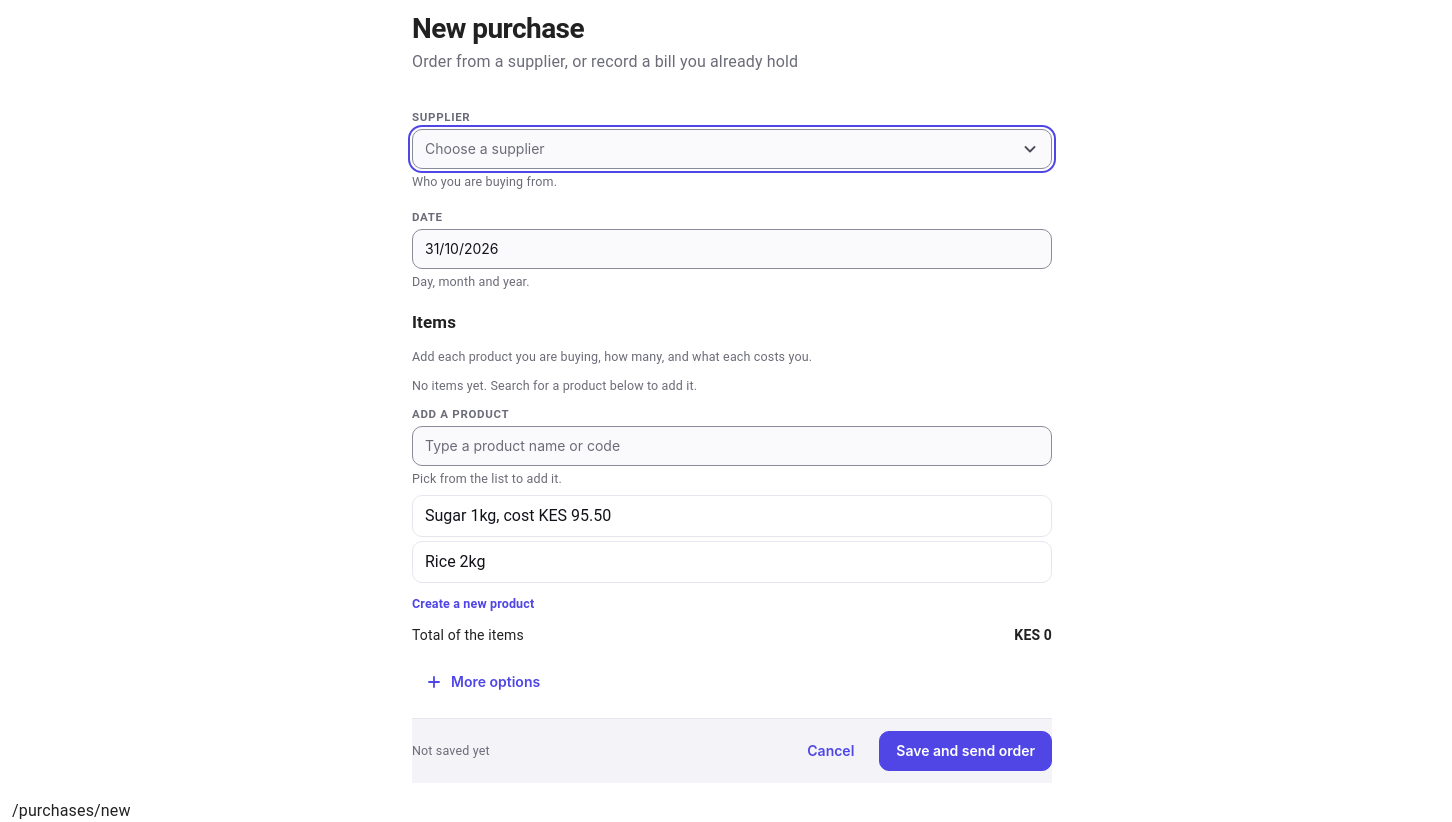
Test case: the items › picking the same product again raises its quantity instead of adding a second line
Expected: the dropdown labelled "Choose a supplier" is shown, [412, 128, 1052, 168]
Click the button "Sugar 1kg, cost KES 95.50" at (518, 516), box [412, 495, 1052, 537]
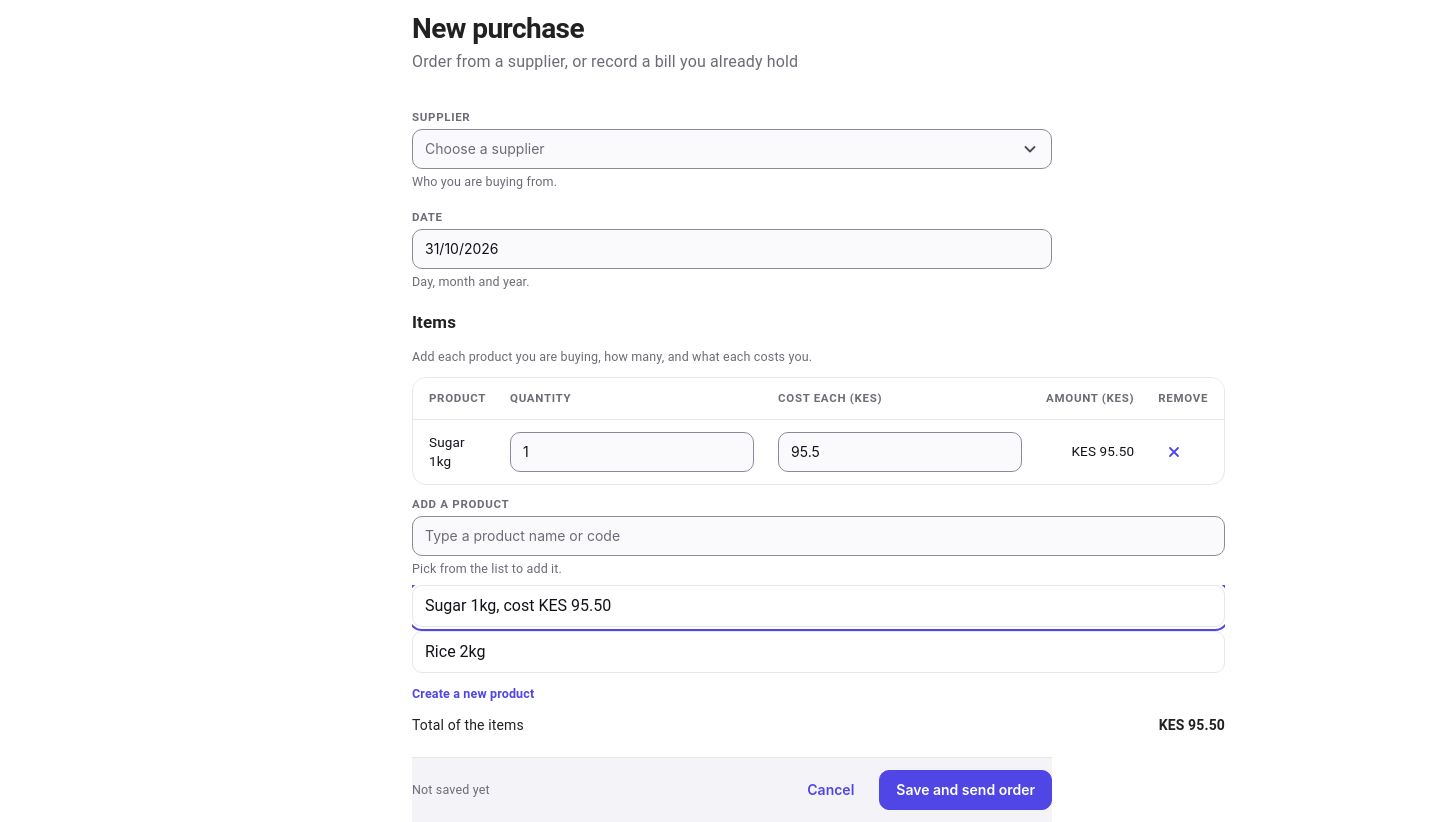
Click the button "Sugar 1kg, cost KES 95.50" at (518, 606), box [412, 585, 1225, 627]
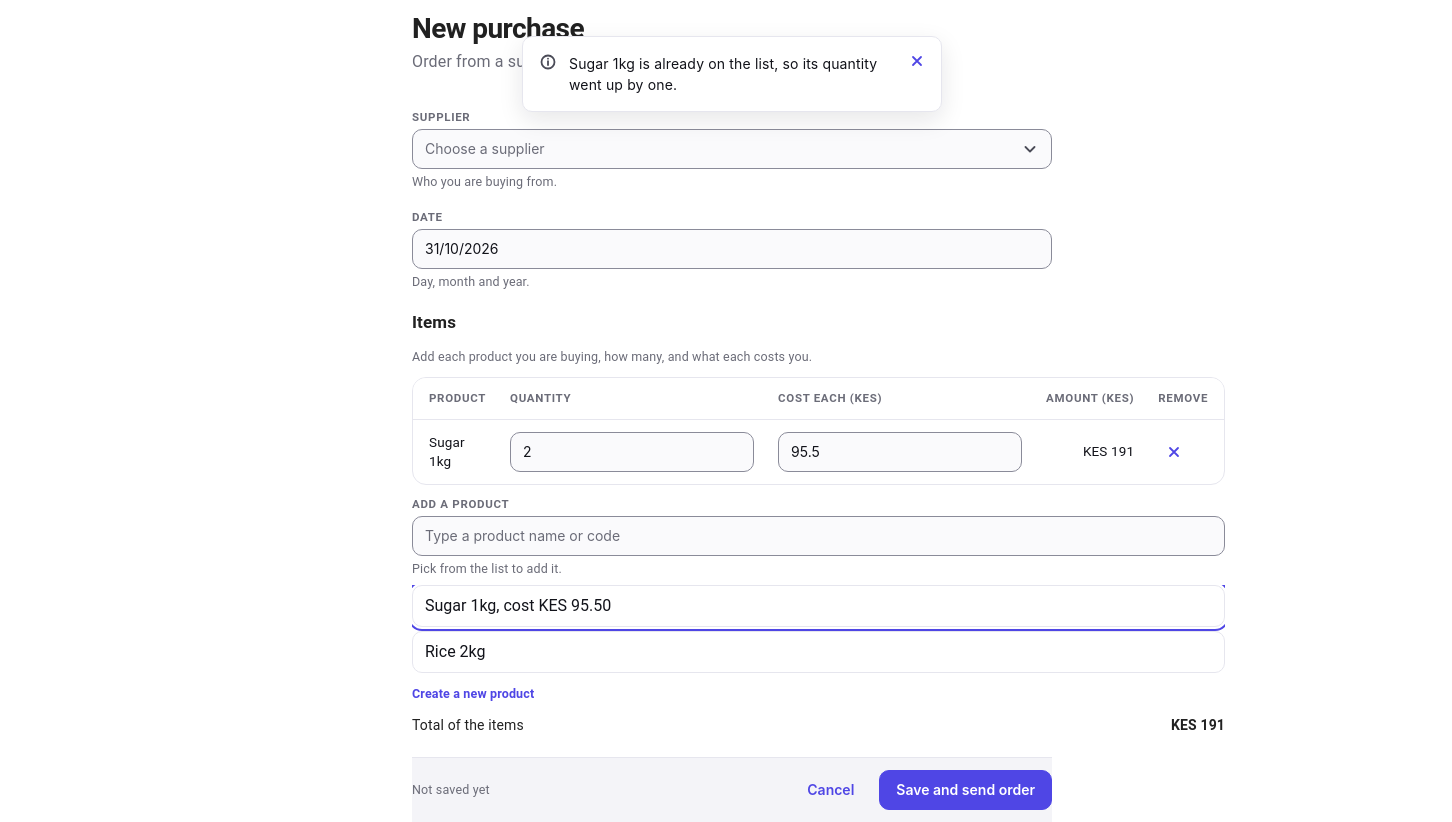
Expected: the number of fields named "Quantity of Sugar 1kg" is 1, [511, 433, 753, 471]
Expected: the 1st field named "Quantity of Sugar 1kg" holds "2", [511, 433, 753, 471]
Expected: the text "Sugar 1kg is already on the list, so its quantity went up by one." is shown, [569, 45, 889, 103]
